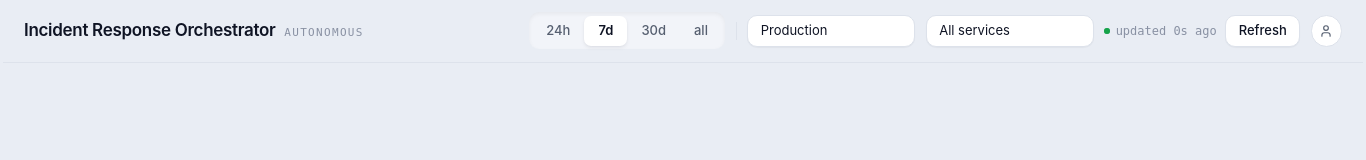
Test: DashboardHeader › operator name (FR-121) › shows that no name is set and offers to set one when none exists
The image size is (1366, 160).
Click the button named "operator" at coordinates (1326, 31), box [1310,15,1342,46]
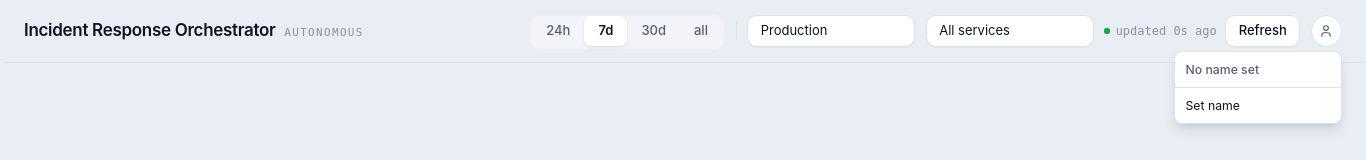
Expected: the text "No name set" is shown, [1186,62,1259,77]
Expected: the menu item "Set name" is shown, [1186,98,1240,113]
